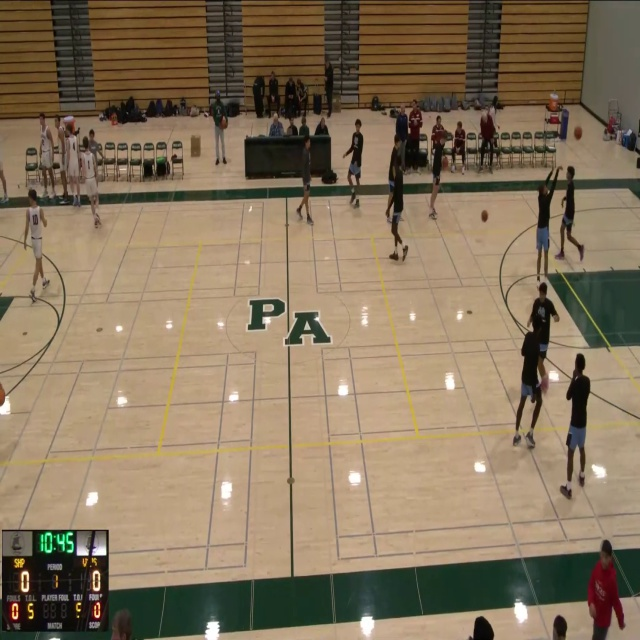Basketball: (540, 374, 549, 391), (574, 126, 581, 139), (481, 210, 488, 222), (441, 156, 448, 167)
